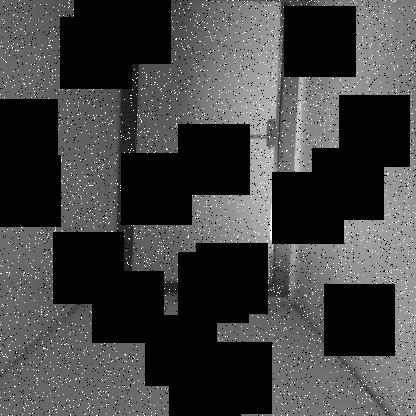Porte: (109, 1, 303, 297)
